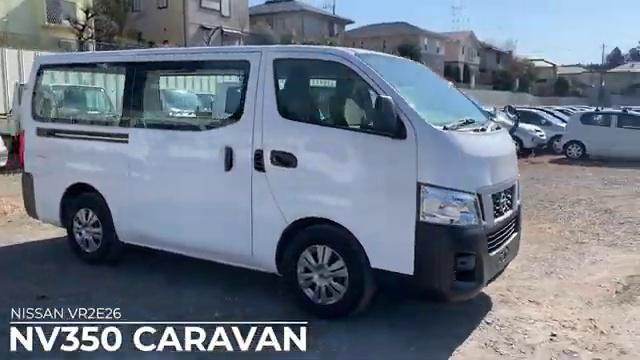van: (19, 45, 523, 311)
